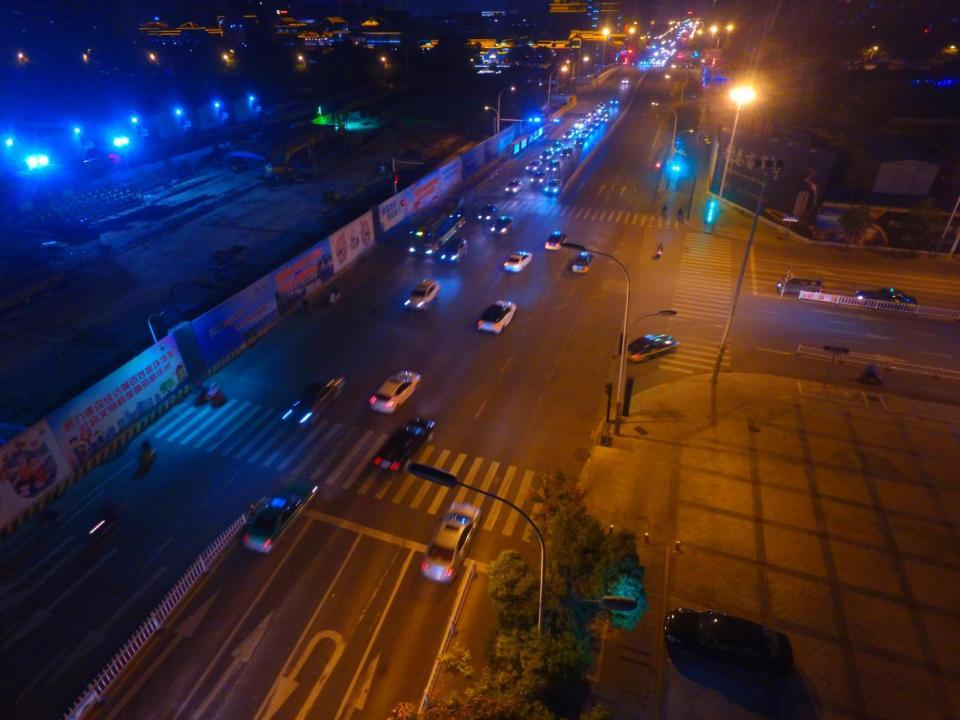bus: (407, 194, 467, 257)
car: (662, 605, 794, 686), (241, 474, 320, 556), (419, 503, 483, 582), (373, 414, 436, 473), (283, 372, 348, 423), (366, 370, 421, 414), (625, 333, 680, 363), (856, 288, 917, 312), (478, 299, 518, 333), (404, 278, 440, 310), (440, 234, 468, 265), (502, 250, 533, 272), (571, 250, 595, 274), (490, 215, 515, 236), (544, 230, 568, 251), (476, 202, 496, 222), (504, 178, 523, 194), (543, 179, 562, 194), (531, 170, 547, 185), (526, 159, 542, 172), (546, 159, 561, 172), (550, 140, 564, 153), (539, 149, 554, 161), (560, 146, 573, 158), (574, 136, 586, 148), (563, 129, 575, 140), (579, 128, 590, 138), (575, 119, 585, 130), (609, 96, 620, 106), (582, 114, 591, 124), (586, 124, 594, 135), (588, 109, 596, 120), (594, 106, 602, 115), (597, 114, 604, 124), (603, 109, 609, 120), (591, 120, 599, 128), (622, 76, 630, 84), (598, 102, 605, 109)
van: (775, 268, 824, 296)
